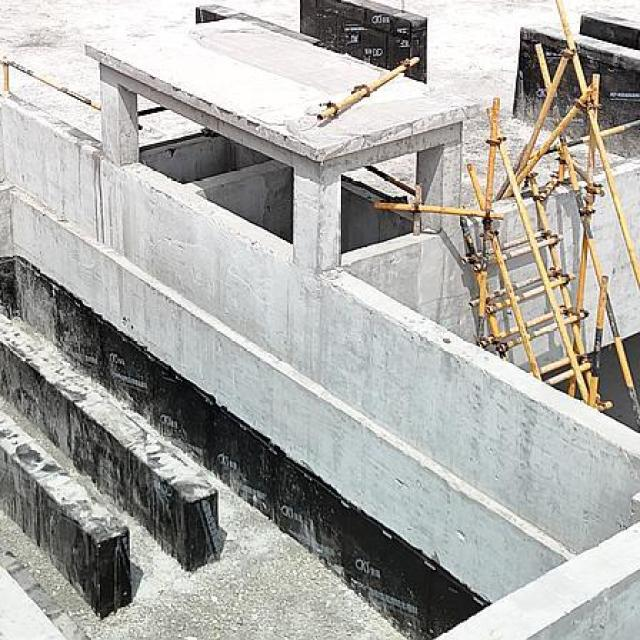edge_guardrail: (525, 117, 640, 182), (3, 56, 103, 111)
